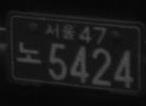2: (91, 46, 112, 87)
4: (112, 48, 135, 89), (69, 45, 90, 83), (77, 25, 92, 45)
5: (47, 42, 67, 81)
7: (92, 25, 108, 46)
노: (16, 41, 42, 64)
서울_O: (44, 21, 76, 40)
